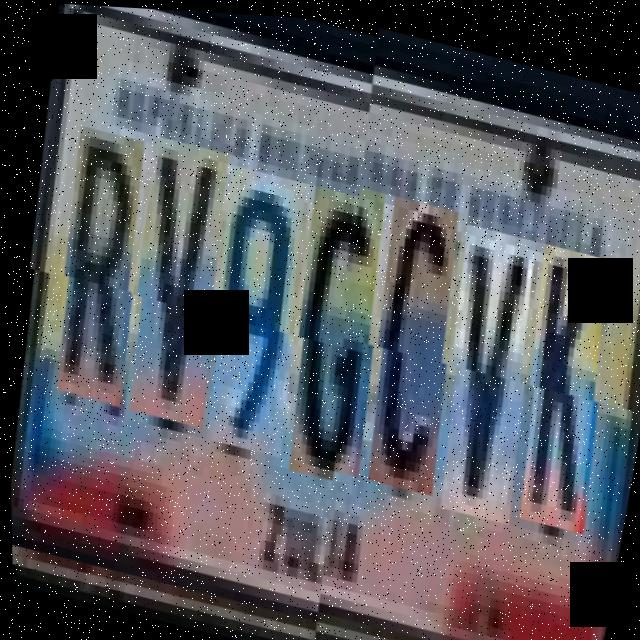9: (182, 161, 325, 455)
C: (341, 199, 477, 501)
G: (263, 180, 404, 483)
K: (494, 245, 627, 537)
R: (32, 123, 163, 407)
V: (413, 226, 554, 529), (105, 132, 248, 428)
